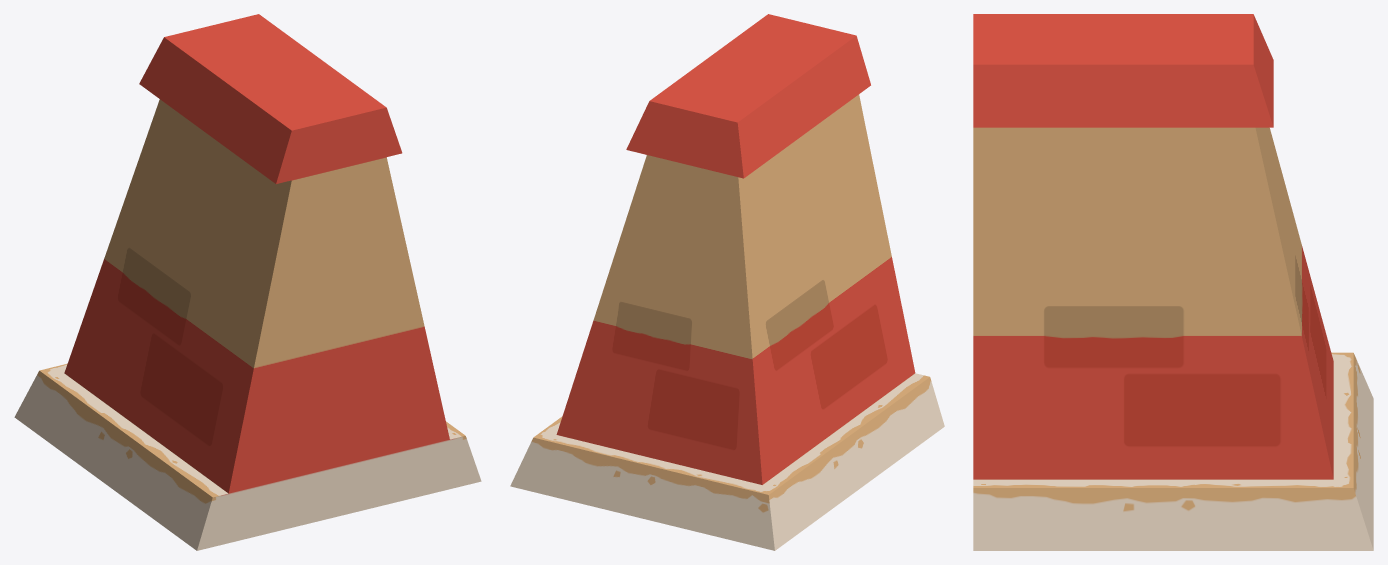
File: lowWallEnd.fbx
3 renders of one model, left to right at view 1: azimuth 30°, elevation 25°; view 2: azimuth 150°, elevation 25°; view 3: azimuth 270°, elevation 25°, orthographic. The views are drawn at different scales.
Parts seen in each view (by area): view 1: Cube.001; view 2: Cube.001; view 3: Cube.001.
Boxes of the visible parts, box(x1,y1,x2,y2) form: Cube.001: box(14, 14, 481, 550); Cube.001: box(510, 14, 944, 550); Cube.001: box(973, 14, 1373, 550).
Bounding box in the file's own units: 1.8 × 2.4 × 2.
